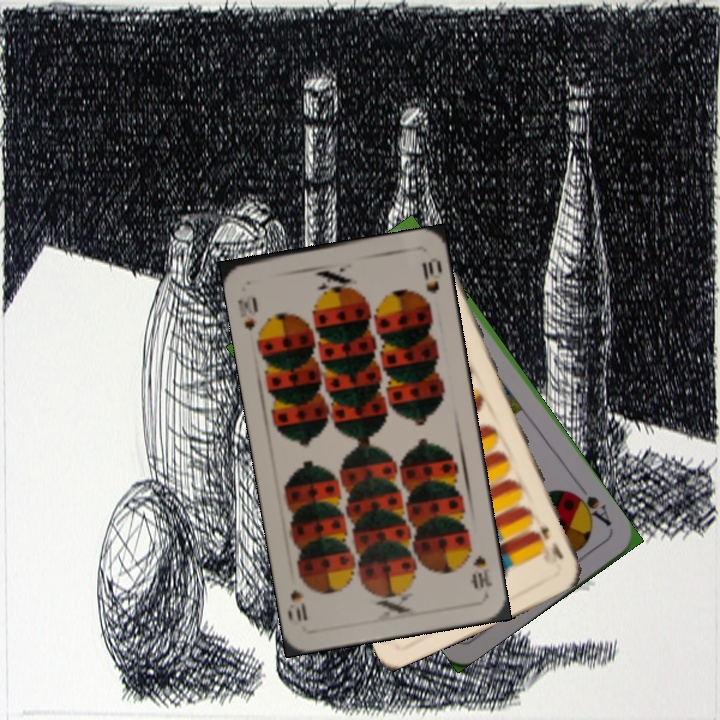E10: (535, 522, 566, 562)
S10: (233, 292, 261, 334), (468, 550, 495, 591)
SA: (567, 481, 614, 529)
